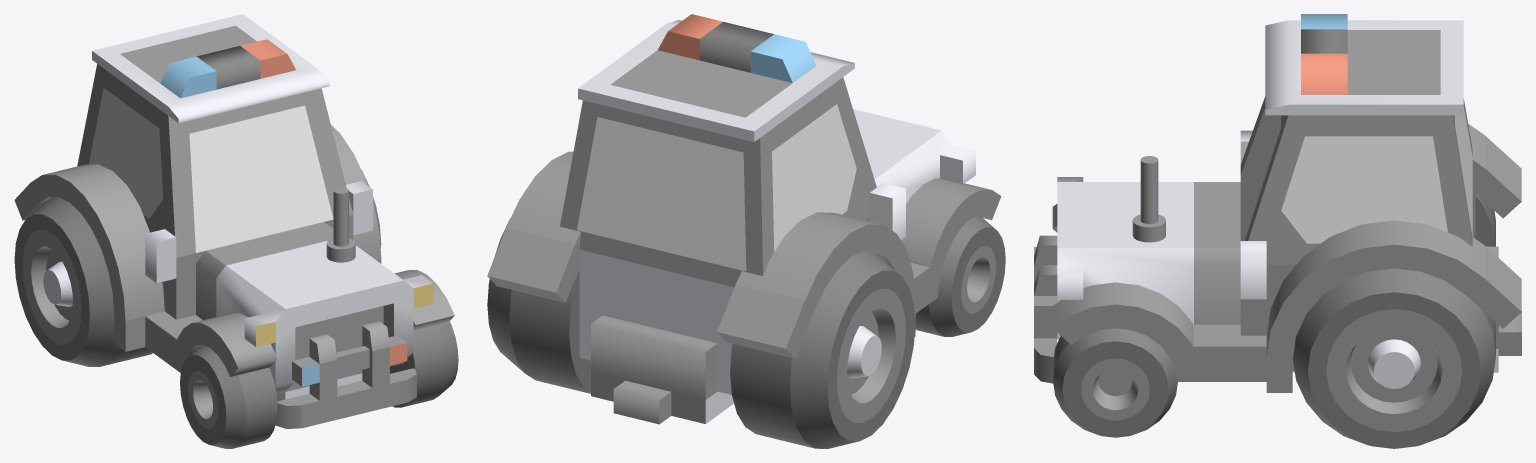
File: tractorPolice.glb
3 renders of one model, left to right at view 1: azimuth 30°, elevation 25°; view 2: azimuth 150°, elevation 25°; view 3: azimuth 270°, elevation 25°, orthographic. The views are drawn at different scales.
Parts seen in each view (by area): view 1: policetractor; view 2: policetractor; view 3: policetractor.
Part boxes in pixels (x1=…): policetractor: x1=14, y1=14, x2=458, y2=448; policetractor: x1=487, y1=14, x2=1005, y2=448; policetractor: x1=1034, y1=14, x2=1521, y2=448.
Size of the model in its own units: 1.66 by 1.61 by 2.1.
